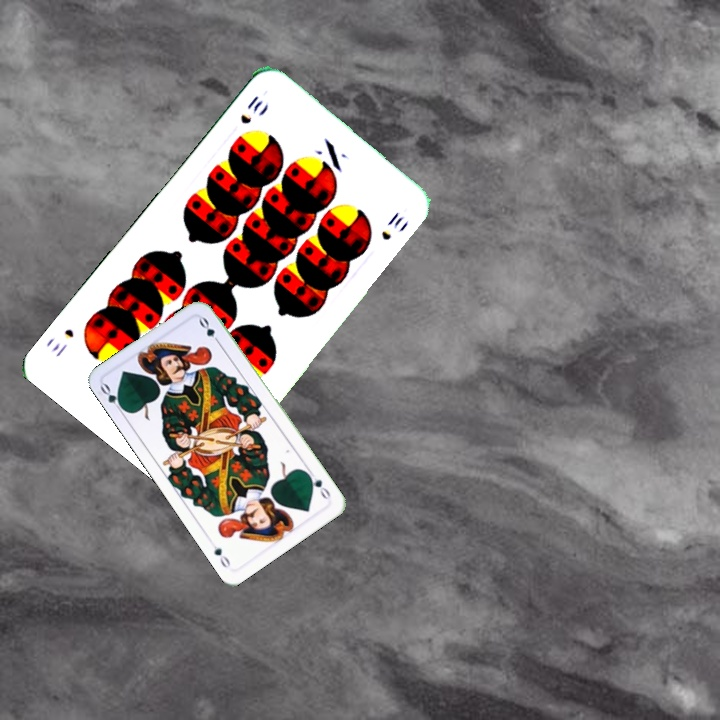GO: (96, 379, 128, 416), (303, 467, 333, 503)
S10: (236, 91, 266, 127)
